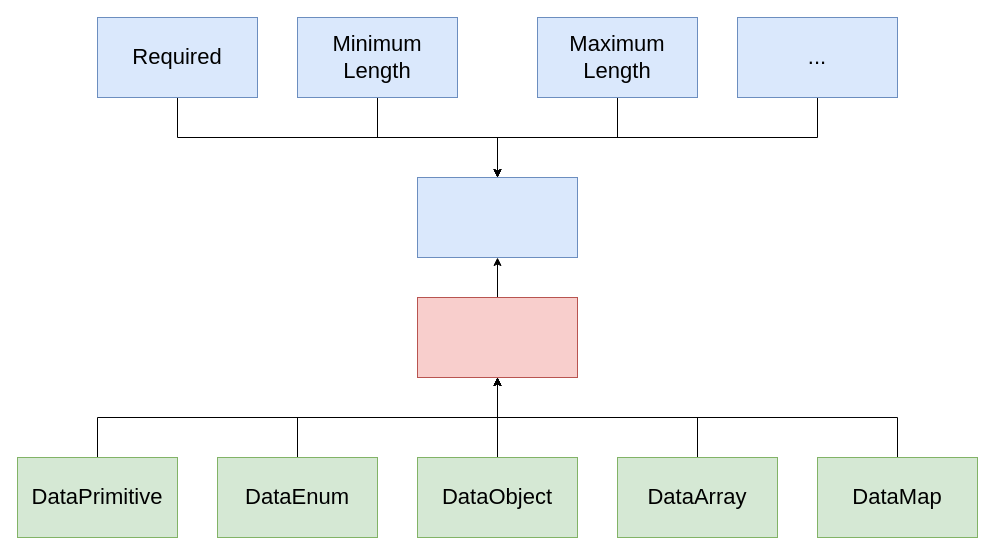
Some shapes in this 995 by 555 pixel diagram are drawn without their labels. The centre of each missing label's shape, as x and y in pixels:
Data: pixel 497 337
Validation: pixel 497 217
